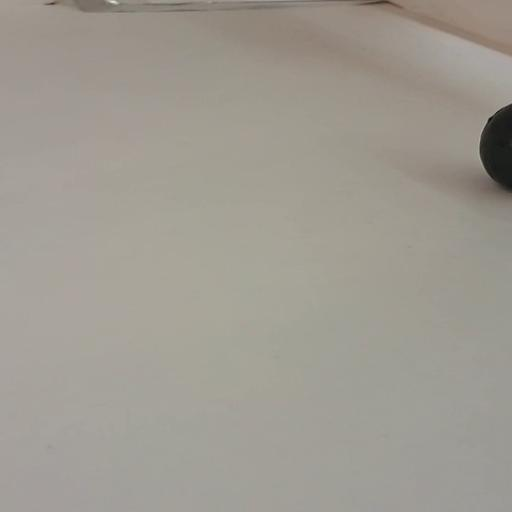dead: (477, 103, 512, 193)
